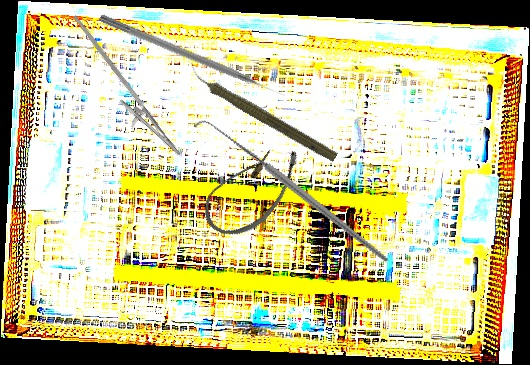Cannula: (194, 126, 310, 251)
Handpiece: (182, 61, 342, 165)
Hook Surgical: (192, 73, 391, 312)
Needle Holder: (48, 14, 197, 166)
Pusher: (97, 13, 287, 102)
